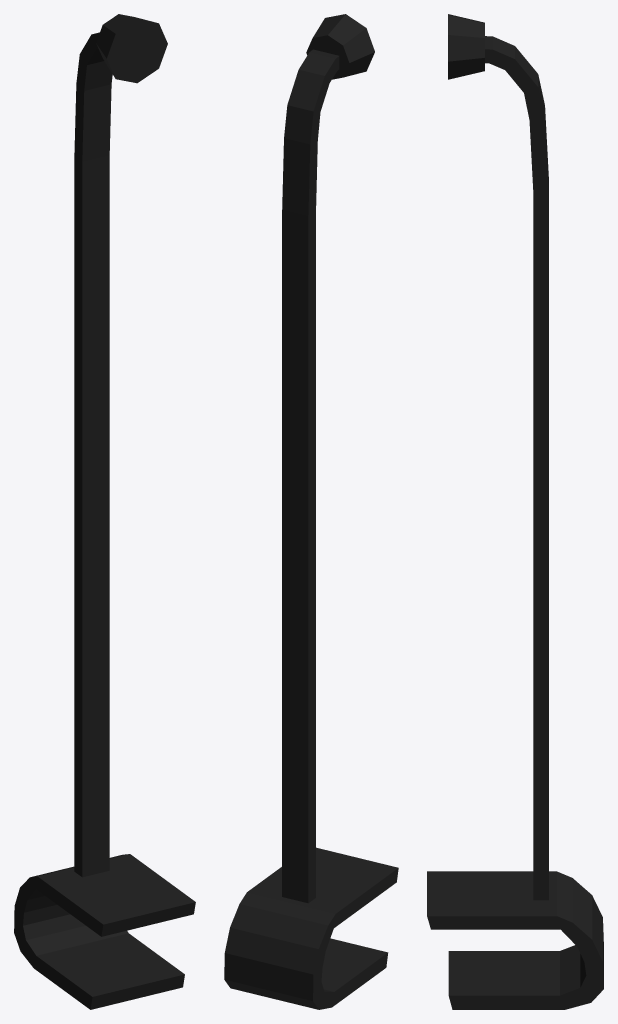
The model's file is Lamp_Support_2.obj.
The picture shows the model from 3 angles, left to right: view 1: azimuth 30°, elevation 25°; view 2: azimuth 150°, elevation 25°; view 3: azimuth 270°, elevation 25°; orthographic projection. The views are drawn at different scales.
Parts seen in each view (by area): view 1: Lamp_Support_2; view 2: Lamp_Support_2; view 3: Lamp_Support_2.
Boxes of the visible parts, <box> form: Lamp_Support_2: <box>14,14,195,1009</box>; Lamp_Support_2: <box>224,14,398,1009</box>; Lamp_Support_2: <box>427,14,603,1009</box>.
Size of the model in its own units: 0.0909 by 0.9217 by 0.152.
